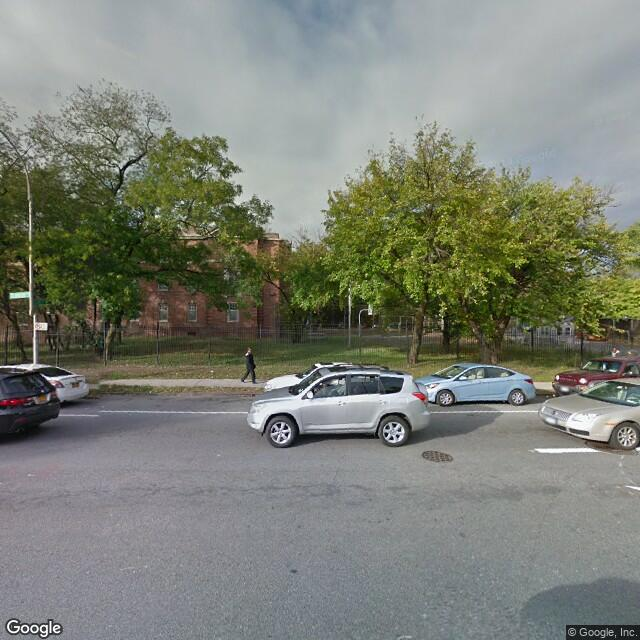litter: (209, 368, 216, 376)
